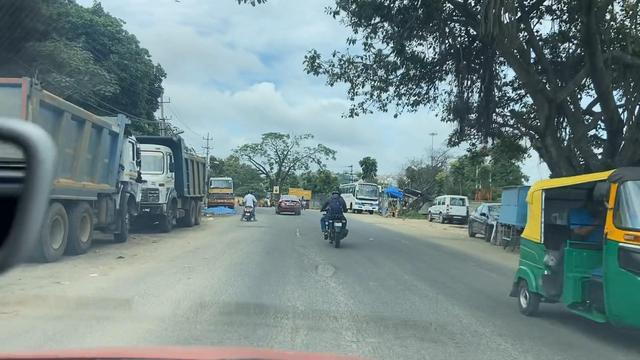HMV: (0, 76, 144, 267), (136, 127, 209, 231), (341, 179, 384, 217), (206, 169, 237, 213)
LMV: (509, 163, 640, 350), (314, 169, 363, 264), (419, 173, 474, 240), (236, 181, 266, 231), (272, 183, 308, 216), (299, 192, 311, 211)
RoadDamages: (305, 249, 342, 292)
